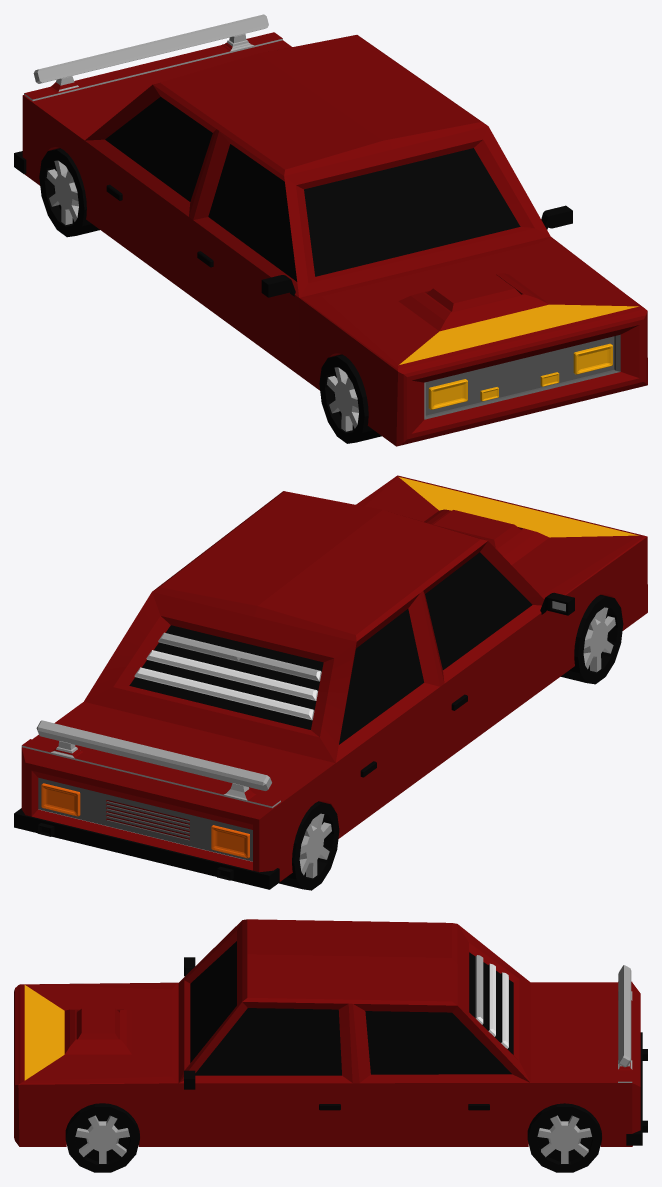
Rendered from br_wheel_6.glb.
3 views of the same model, one above another, from view 1: azimuth 30°, elevation 25°; view 2: azimuth 150°, elevation 25°; view 3: azimuth 270°, elevation 25° (orthographic). The views are drawn at different scales.
Parts seen in each view (by area): view 1: BR WHEEL.008_BODY.007_0; view 2: BR WHEEL.008_BODY.007_0; view 3: BR WHEEL.008_BODY.007_0.
Part boxes in pixels (x1,y1,x2,y2): BR WHEEL.008_BODY.007_0: (14,14,647,446); BR WHEEL.008_BODY.007_0: (14,475,647,890); BR WHEEL.008_BODY.007_0: (14,919,647,1172).
Bounding box in the file's own units: 0.3593 × 0.2293 × 0.7902.
1 material, 1 textured.
